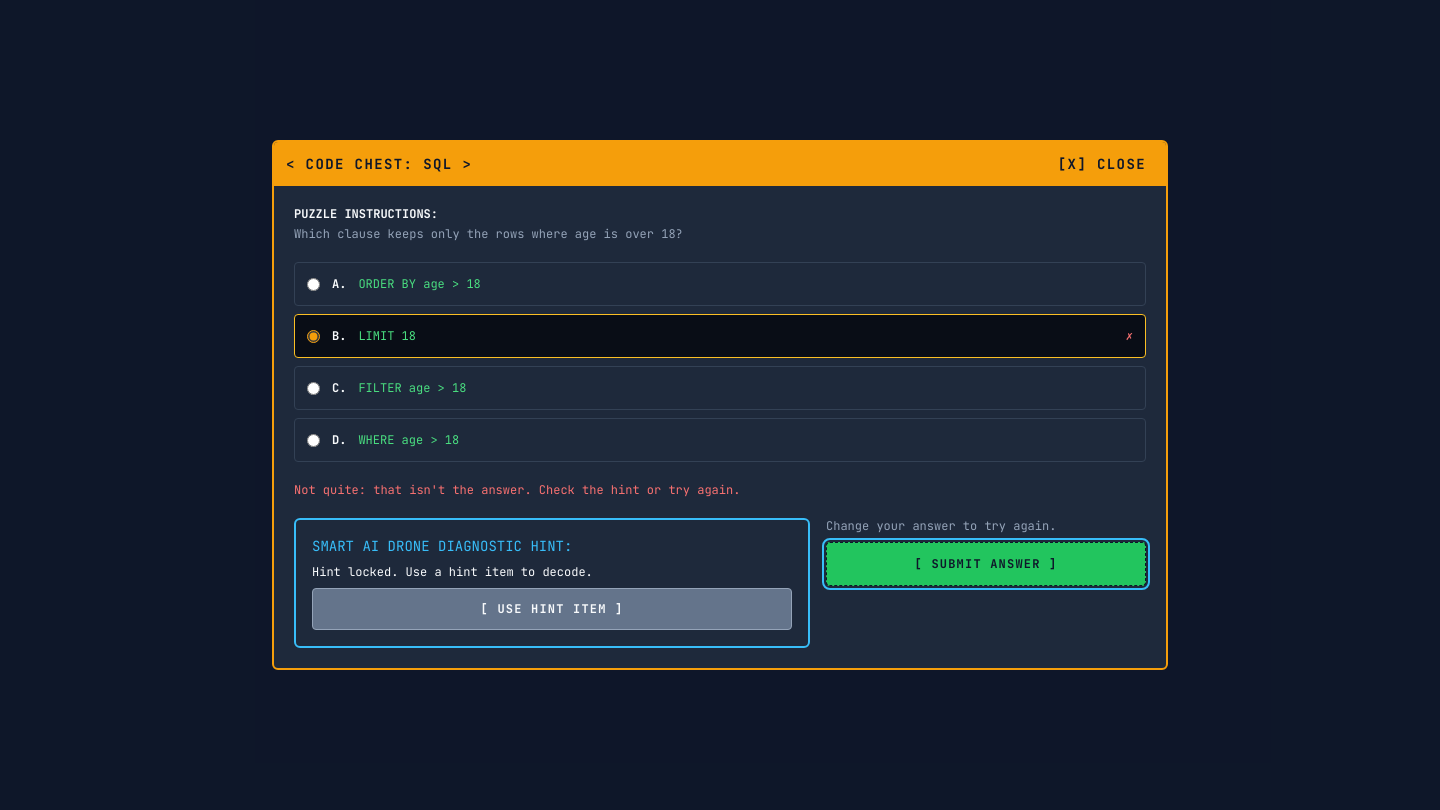
Test case: ChallengeTerminal: choice questions › after a wrong answer the picked option shows ✗ and its name ends `, wrong` until another is picked
Earlier steps of the test are not shown.
Expected: the text "✗" is shown, [1126, 328, 1133, 344]
Expected: the text with test id "submit-reason" reads "Change your answer to try again.", [826, 518, 1056, 534]
Click the radio button labelled "C. FILTER age > 18" at (314, 388), box [307, 382, 320, 394]
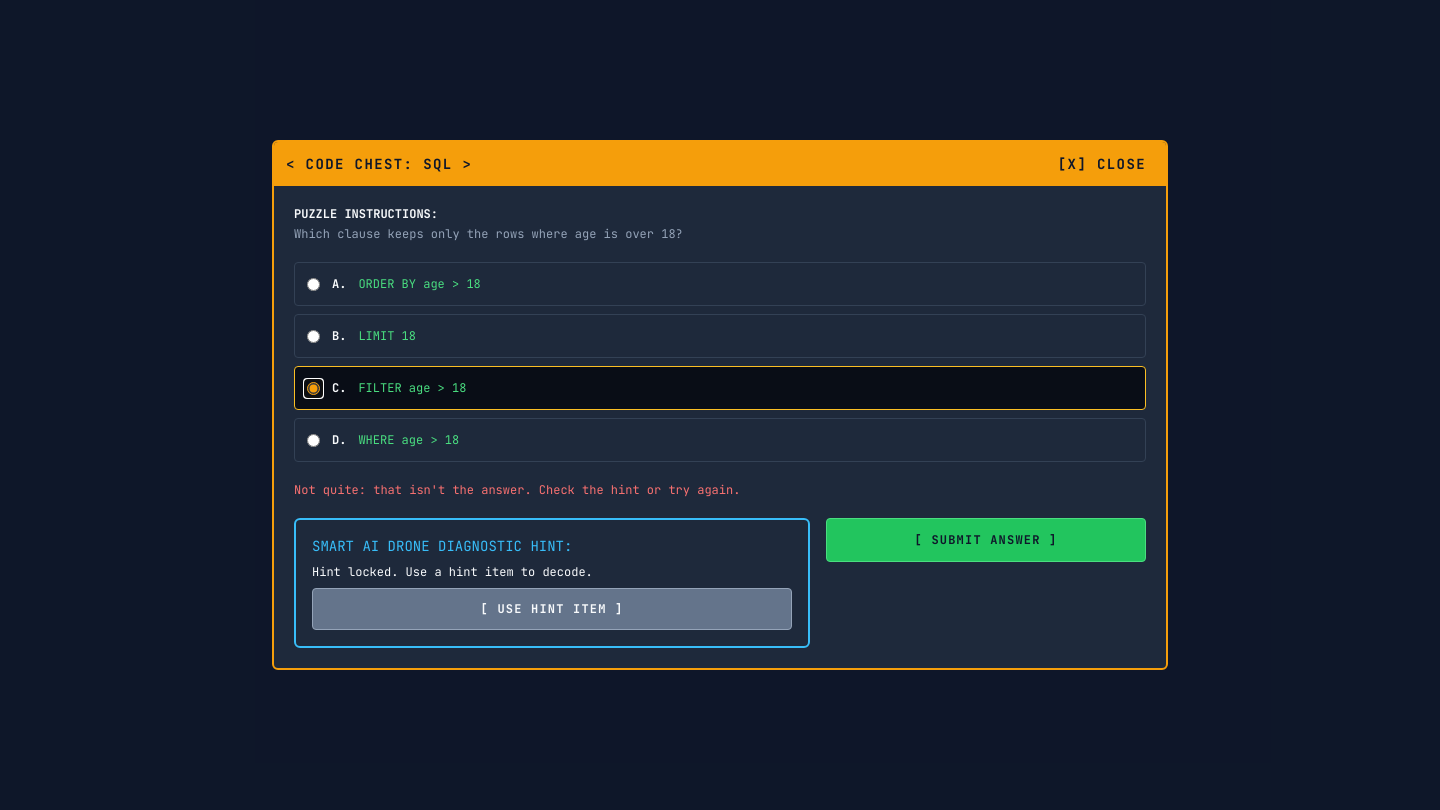
Expected: the text "✗" is gone
